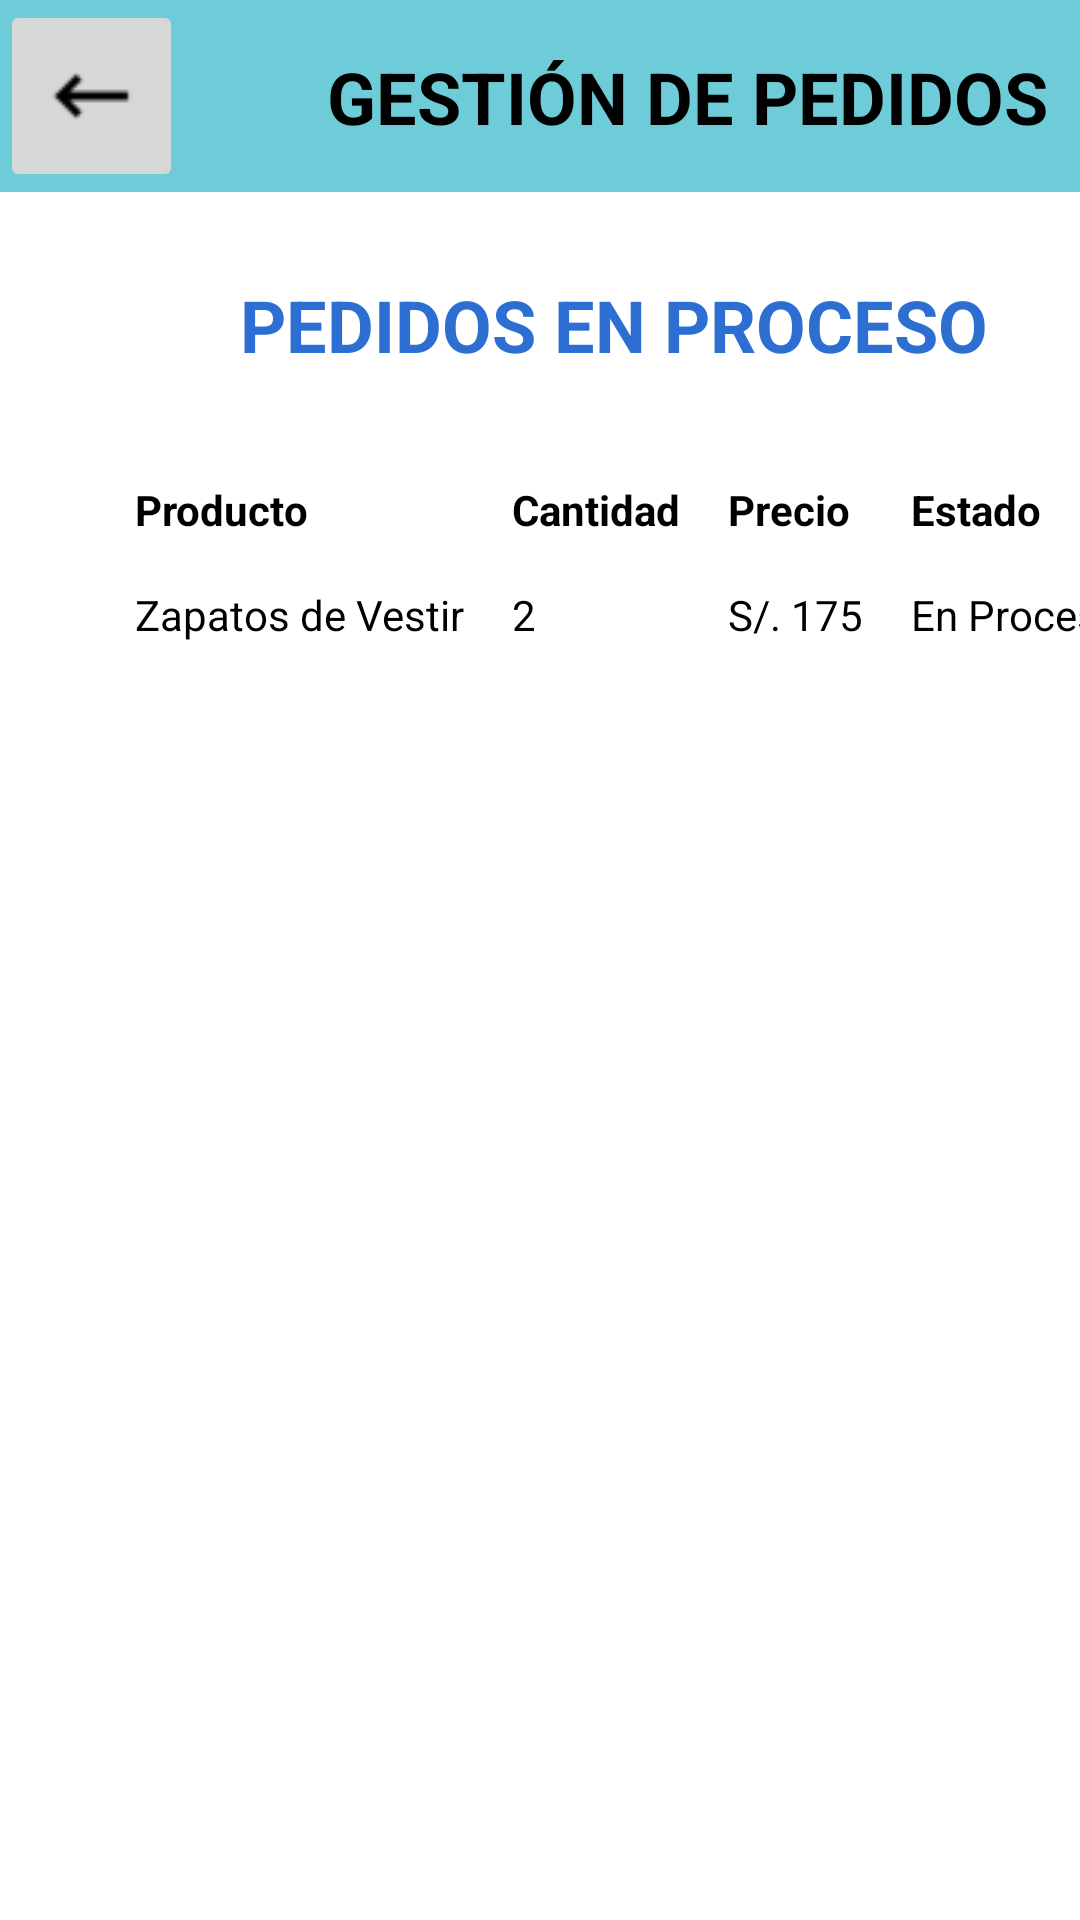

Screen size 1080 × 1920. Icon name, then its box in pixels as (x1, y1, x2, y2):
flecha regreso: (12, 18, 171, 174)
